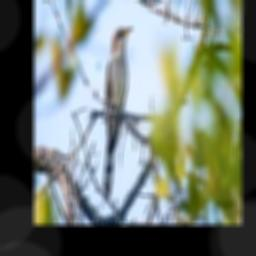Cuckoo: (103, 26, 133, 199)
